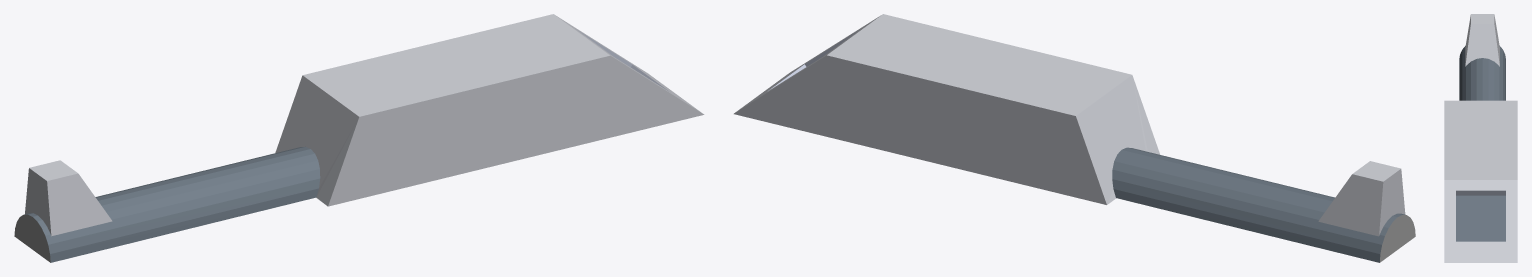
Rendered from Sight_E.fbx.
The picture shows the model from 3 angles, left to right: view 1: azimuth 30°, elevation 25°; view 2: azimuth 150°, elevation 25°; view 3: azimuth 270°, elevation 25°; orthographic projection. The views are drawn at different scales.
Visible parts, largest first — view 1: polySurface633; view 2: polySurface633; view 3: polySurface633.
Part boxes in pixels (x1,y1,x2,y2): polySurface633: (14, 14, 704, 262); polySurface633: (734, 14, 1415, 262); polySurface633: (1444, 14, 1517, 262).
Size of the model in its own units: 40.94 by 5 by 6.28.
